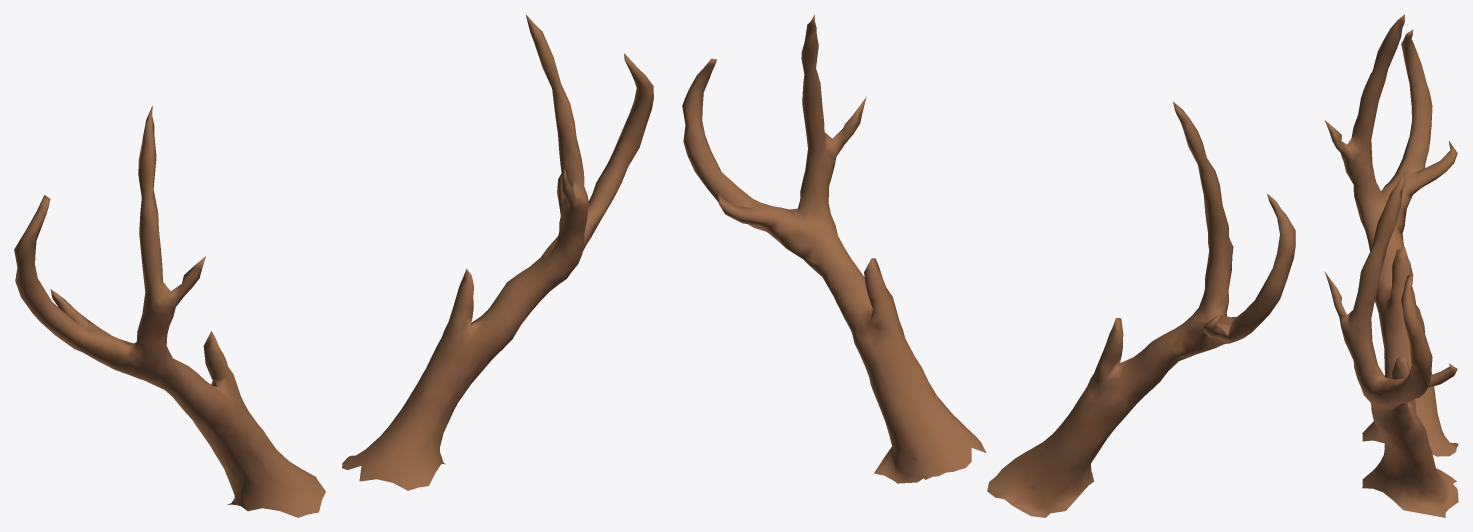
The model's file is deer_horn_color.glb.
3 renders of one model, left to right at view 1: azimuth 30°, elevation 25°; view 2: azimuth 150°, elevation 25°; view 3: azimuth 270°, elevation 25°, orthographic. The views are drawn at different scales.
Visible parts, largest first — view 1: Cube; view 2: Cube; view 3: Cube.
Part boxes in pixels (x1,y1,x2,y2): Cube: (14,14,653,517); Cube: (682,14,1295,517); Cube: (1324,14,1458,517).
Bounding box in the file's own units: 5.17 × 3.44 × 1.09.
